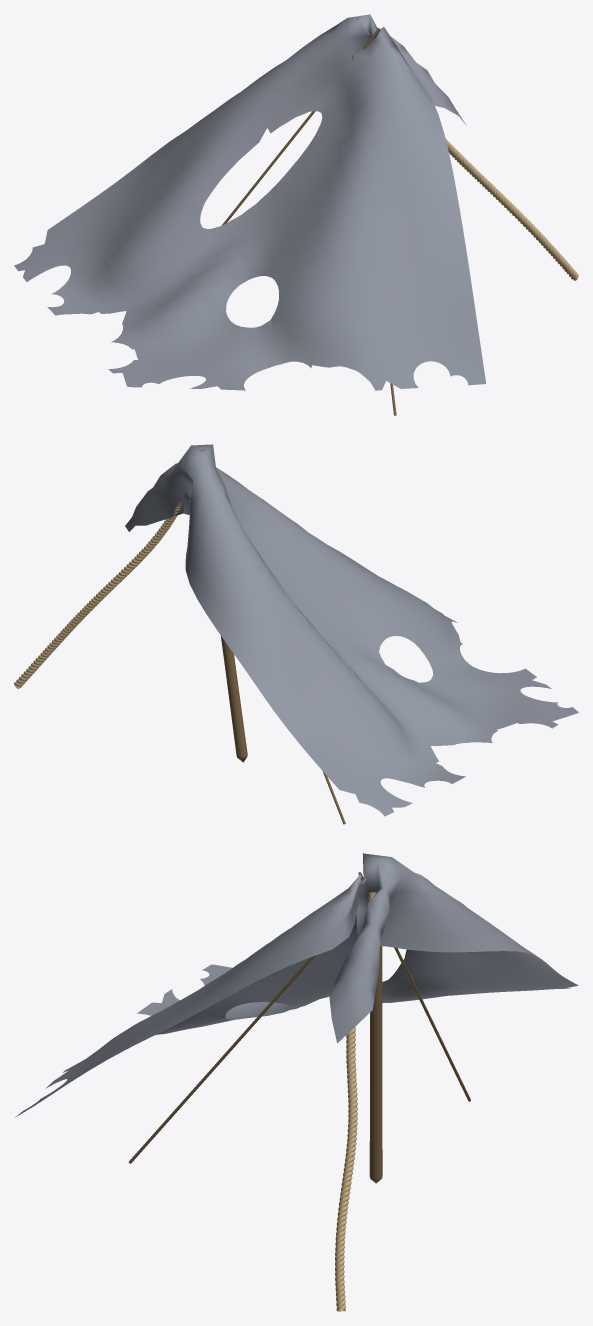
The model's file is Tarp.fbx.
The picture shows the model from 3 angles, top to bottom: view 1: azimuth 30°, elevation 25°; view 2: azimuth 150°, elevation 25°; view 3: azimuth 270°, elevation 25°; orthographic projection. The views are drawn at different scales.
Visible parts, largest first — view 1: Plane.001, Circle, Cylinder.001; view 2: Plane.001, Circle, Cylinder; view 3: Plane.001, Circle, Cylinder, Cylinder.002, Cylinder.001.
Boxes of the visible parts, x1,y1,x2,y2 form: Plane.001: (14, 14, 486, 390); Circle: (445, 138, 578, 280); Cylinder.001: (222, 28, 380, 225); Plane.001: (125, 444, 578, 816); Circle: (14, 500, 182, 688); Cylinder: (200, 449, 247, 762); Plane.001: (15, 853, 578, 1117); Circle: (335, 892, 376, 1311); Cylinder: (369, 856, 382, 1183); Cylinder.002: (128, 955, 315, 1163); Cylinder.001: (358, 872, 470, 1101).
Bounding box in the file's own units: 1308 × 751 × 1097.
